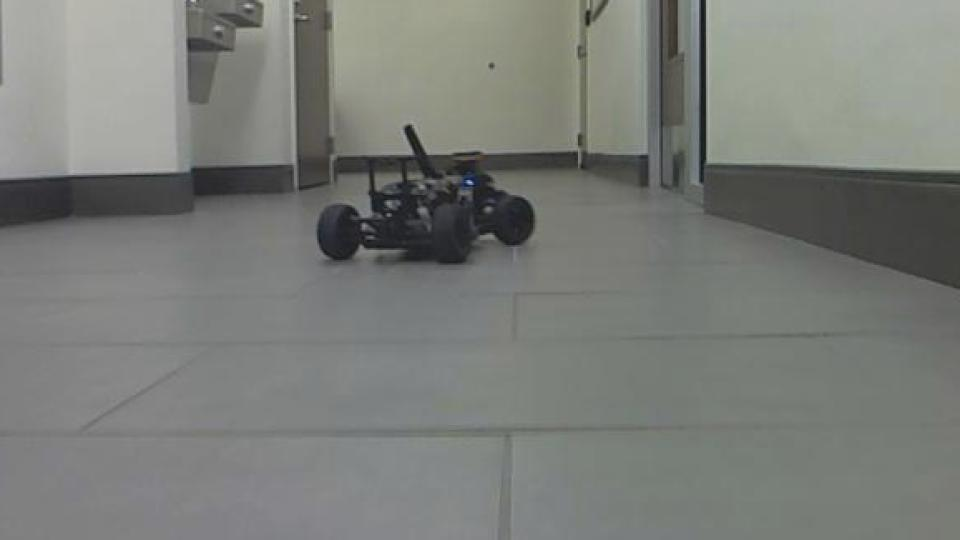car: (313, 122, 536, 267)
